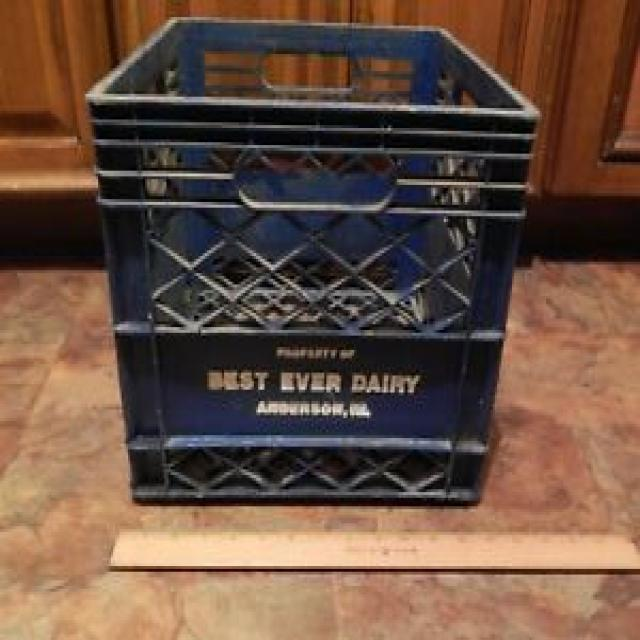basket: (87, 20, 540, 502)
